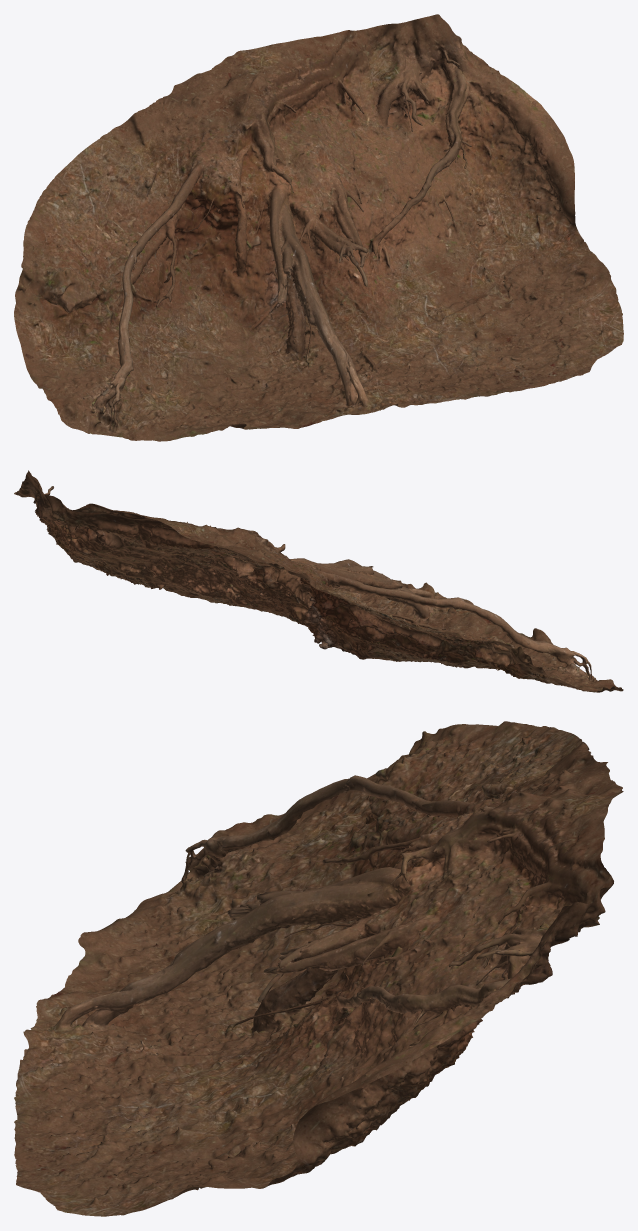
Rendered from root_cluster_01.gltf.
The picture shows the model from 3 angles, top to bottom: view 1: azimuth 30°, elevation 25°; view 2: azimuth 150°, elevation 25°; view 3: azimuth 270°, elevation 25°; orthographic projection. The views are drawn at different scales.
Parts seen in each view (by area): view 1: root_cluster_01; view 2: root_cluster_01; view 3: root_cluster_01.
Part boxes in pixels (x1,y1,x2,y2): root_cluster_01: [14, 14, 623, 441]; root_cluster_01: [14, 470, 623, 692]; root_cluster_01: [14, 721, 623, 1216].
Size of the model in its own units: 4.12 by 1.51 by 2.68.
Materials: 1 (1 with a texture image).
